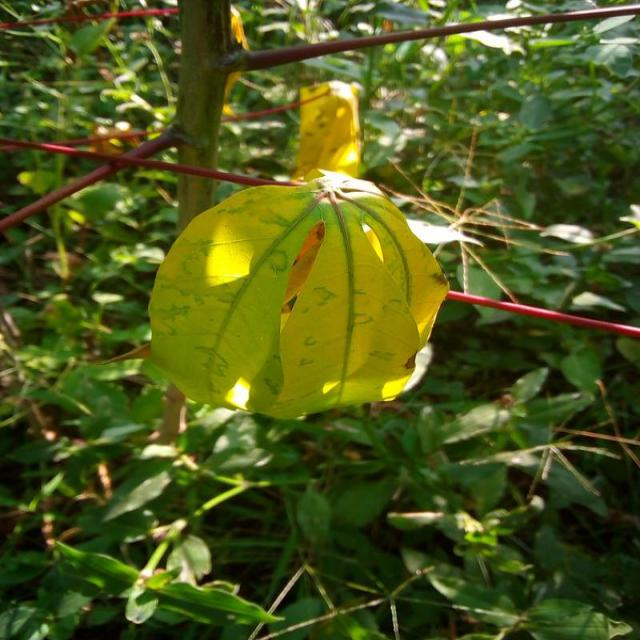cassava leaf: (146, 167, 450, 420)
